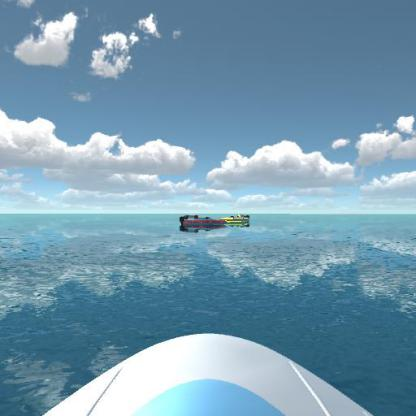usv2: (216, 211, 251, 229)
usv3: (175, 212, 228, 233)
